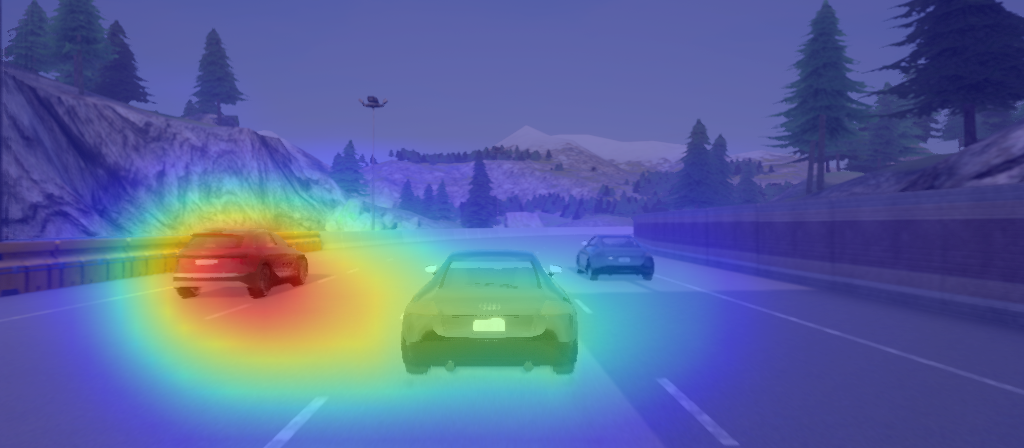Barrier: (677, 200, 1017, 277), (8, 235, 169, 285), (407, 221, 578, 241)
Lane Marking: (651, 372, 752, 448), (255, 393, 333, 448), (202, 300, 265, 323)
Light Pole: (353, 91, 392, 231)
car: (400, 246, 584, 382), (168, 225, 313, 303), (575, 232, 660, 285)
